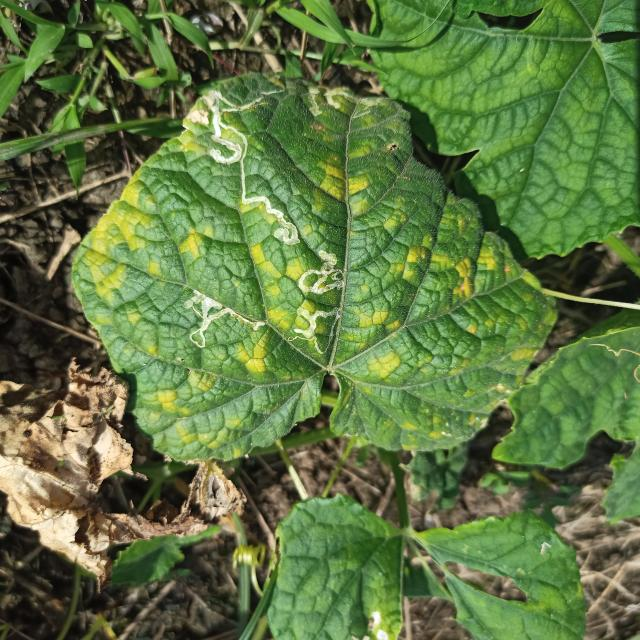disease_cucumber: (85, 81, 525, 453)
